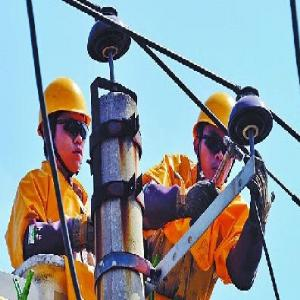yellow: (35, 76, 91, 174), (196, 87, 240, 191)
